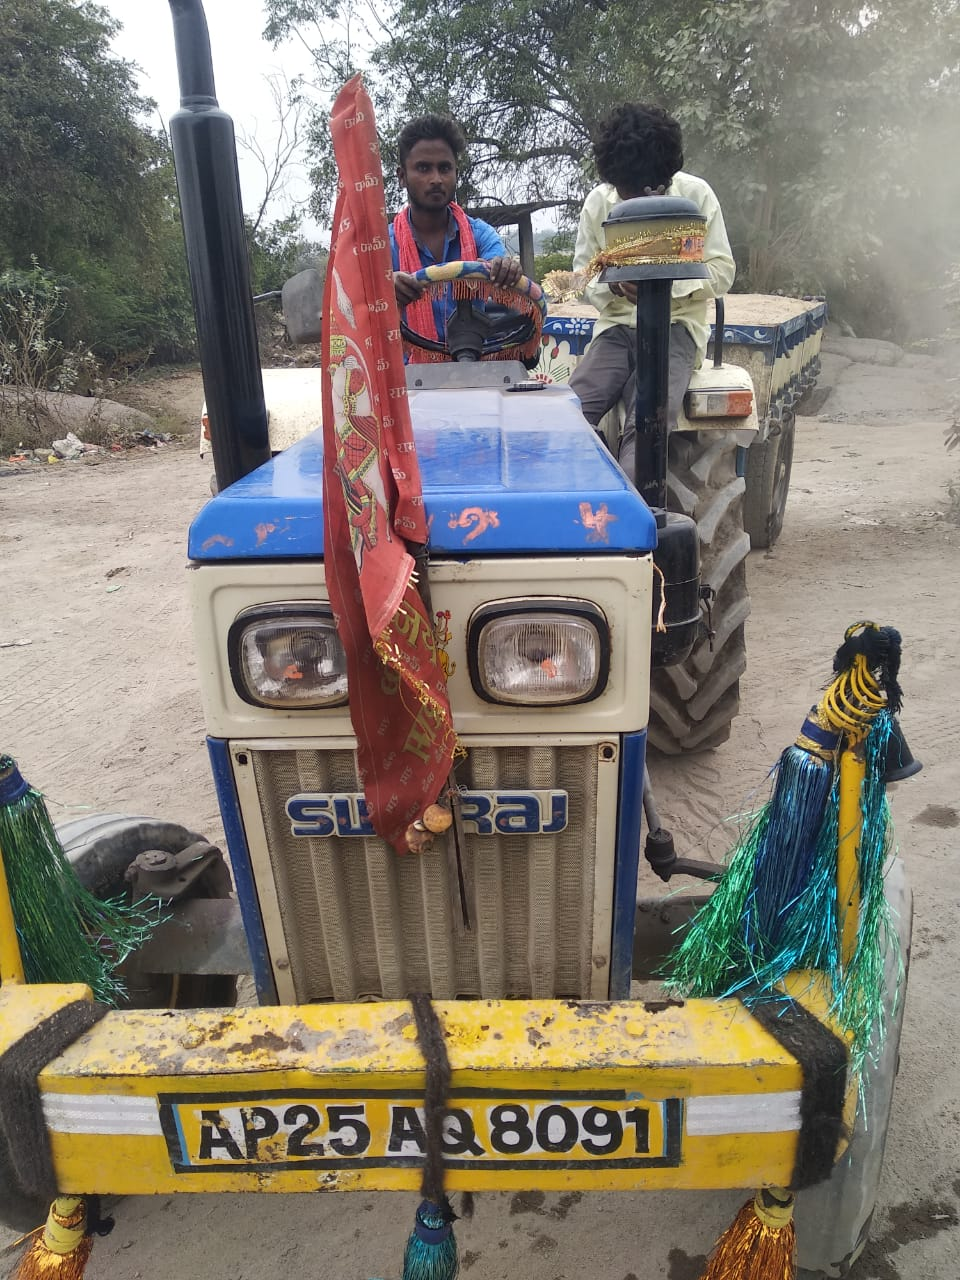num_plate: (149, 1084, 693, 1169)
